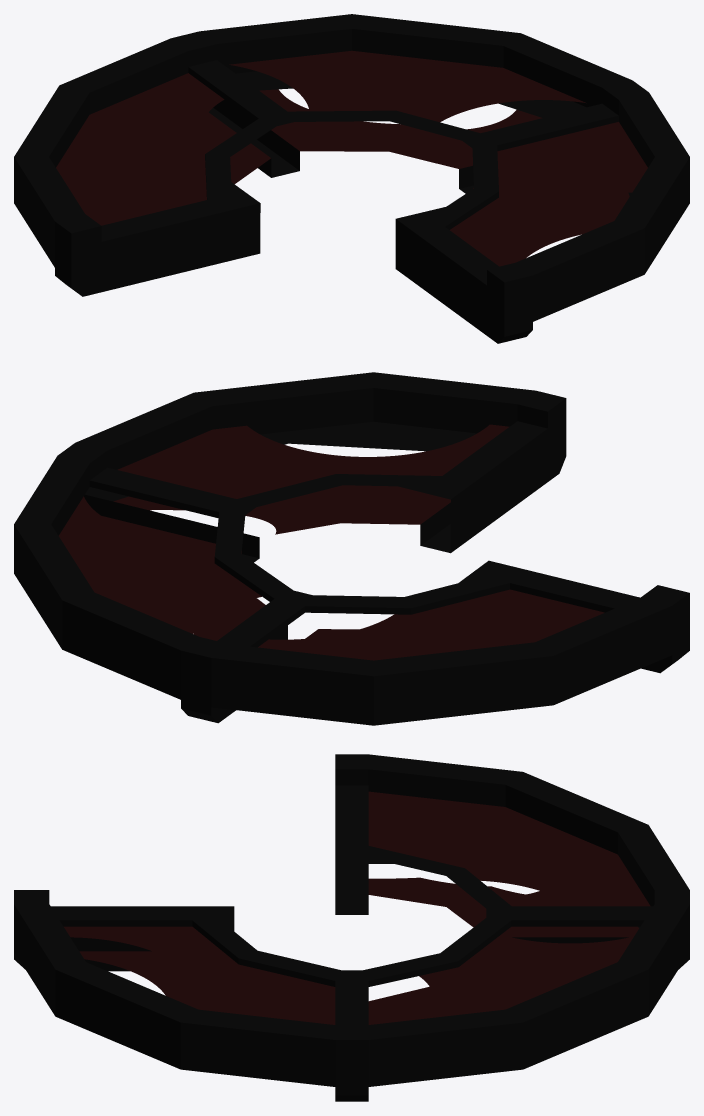
File: SM_SM_Disk_02.fbx
3 views of the same model, one above another, from view 1: azimuth 30°, elevation 25°; view 2: azimuth 150°, elevation 25°; view 3: azimuth 270°, elevation 25° (orthographic). The views are drawn at different scales.
Visible parts, largest first — view 1: SM_Disk_02; view 2: SM_Disk_02; view 3: SM_Disk_02.
Boxes of the visible parts, x1,y1,x2,y2 form: SM_Disk_02: (14,14,689,343); SM_Disk_02: (14,372,689,725); SM_Disk_02: (14,754,689,1101).
Size of the model in its own units: 493 by 54.07 by 493.
